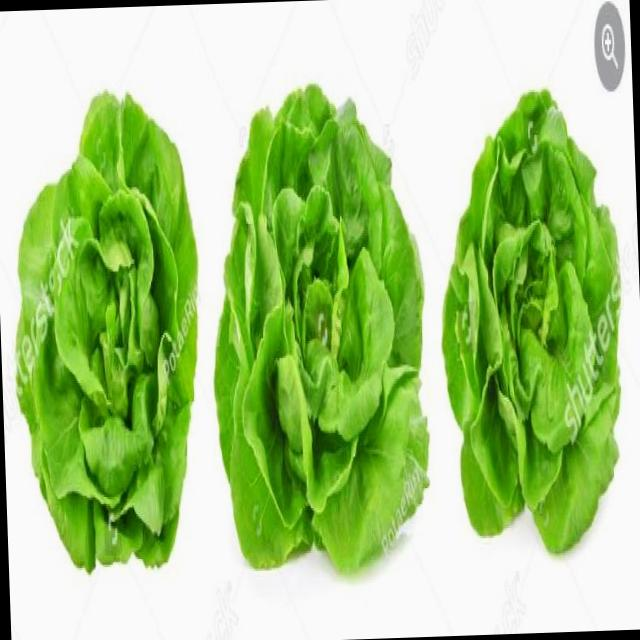Lettuce-Ready-to-Harvest: (215, 85, 428, 570), (17, 94, 196, 569), (444, 91, 619, 551)
